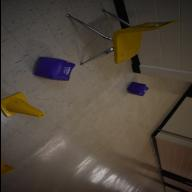cone: (0, 92, 44, 118), (0, 158, 15, 176)
cube: (33, 57, 75, 81), (125, 82, 149, 97)
